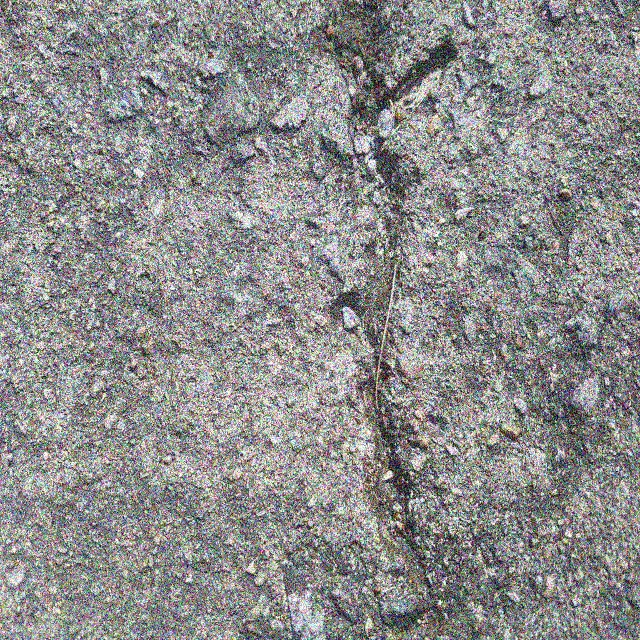SurfaceCrack: (244, 1, 490, 639)
